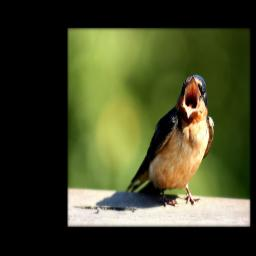Swallow: (125, 74, 215, 207)
